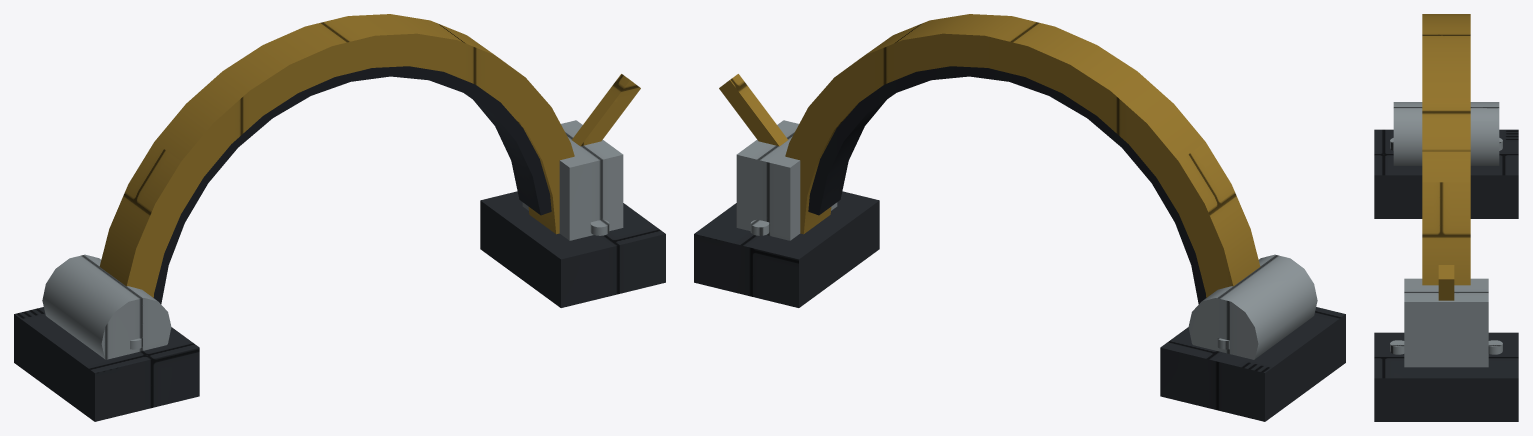
File: cargo-load-restraint-hoop_lod1.glb
The picture shows the model from 3 angles, left to right: view 1: azimuth 30°, elevation 25°; view 2: azimuth 150°, elevation 25°; view 3: azimuth 270°, elevation 25°; orthographic projection. The views are drawn at different scales.
Visible parts, largest first — view 1: LOD1_Livery, LOD1_Armor, LOD1_BrushedMetal, LOD1_MechanicalDark; view 2: LOD1_Livery, LOD1_Armor, LOD1_BrushedMetal, LOD1_MechanicalDark; view 3: LOD1_Armor, LOD1_Livery, LOD1_BrushedMetal.
Part boxes in pixels (x1,y1,x2,y2): LOD1_Livery: (99,14,640,297); LOD1_Armor: (14,191,665,421); LOD1_BrushedMetal: (42,120,623,359); LOD1_MechanicalDark: (153,66,551,304); LOD1_Livery: (719,14,1260,297); LOD1_Armor: (694,191,1345,421); LOD1_BrushedMetal: (736,120,1317,359); LOD1_MechanicalDark: (808,66,1206,304); LOD1_Armor: (1374,129,1518,421); LOD1_Livery: (1422,14,1470,300); LOD1_BrushedMetal: (1390,102,1502,367).
Size of the model in its own units: 2.5 by 1.2 by 0.6.
Materials: 4 (4 with a texture image).
